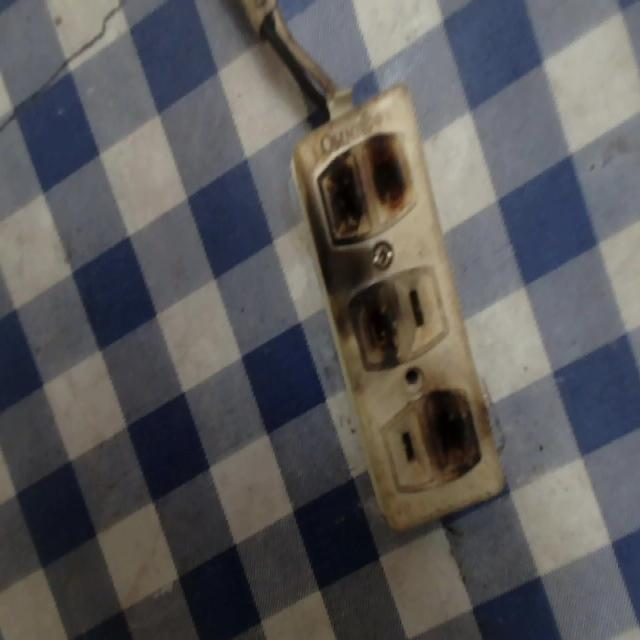-: (315, 125, 417, 243), (344, 274, 409, 378), (418, 381, 491, 471)
